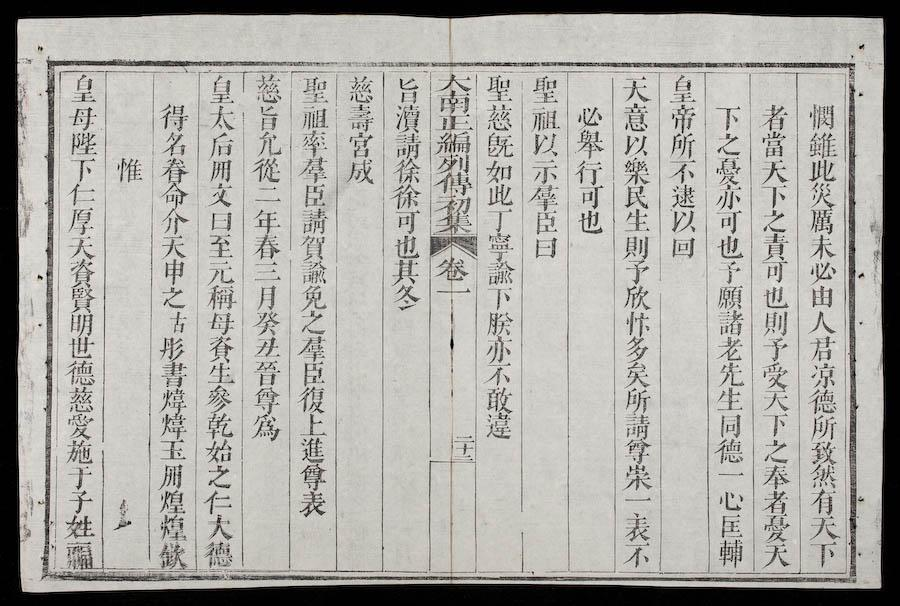c: (434, 255, 471, 283), (529, 74, 561, 106), (252, 72, 284, 104), (621, 510, 654, 541), (61, 541, 96, 570), (298, 74, 330, 105), (618, 75, 653, 103), (435, 172, 474, 197), (67, 73, 98, 104), (158, 101, 190, 131), (207, 73, 237, 105), (620, 103, 652, 133), (344, 74, 377, 103), (621, 463, 654, 492), (805, 131, 839, 159), (434, 132, 473, 156), (668, 73, 698, 104), (758, 102, 790, 131), (806, 101, 838, 130), (113, 155, 145, 184), (620, 158, 652, 187), (249, 413, 282, 441), (202, 541, 236, 568), (61, 514, 96, 540), (392, 104, 423, 133), (715, 539, 746, 568), (483, 104, 515, 132), (344, 104, 376, 132), (574, 130, 606, 158), (390, 285, 422, 313), (713, 438, 746, 465), (250, 157, 283, 184), (156, 542, 189, 569), (64, 386, 97, 413), (202, 513, 235, 540), (296, 490, 329, 517), (250, 233, 283, 260), (64, 359, 98, 385), (806, 515, 841, 540), (484, 74, 514, 103), (667, 104, 698, 132), (712, 157, 743, 185), (485, 232, 516, 260), (760, 514, 791, 542), (65, 206, 96, 234), (344, 159, 376, 186), (297, 156, 329, 183), (202, 412, 234, 439), (203, 385, 235, 412), (573, 159, 605, 186), (436, 91, 472, 115), (621, 542, 653, 569), (156, 514, 188, 541), (296, 386, 328, 413), (157, 361, 189, 388), (528, 185, 561, 211), (63, 439, 96, 465), (296, 335, 329, 361), (434, 213, 474, 234), (483, 386, 514, 413), (66, 259, 97, 286), (159, 207, 190, 234), (807, 488, 838, 515), (667, 132, 698, 159), (251, 359, 282, 386), (297, 463, 328, 490), (483, 412, 514, 439), (808, 414, 839, 441), (806, 335, 837, 362), (205, 335, 236, 362), (529, 107, 561, 133), (758, 159, 790, 185), (483, 337, 515, 363), (391, 133, 423, 159), (391, 159, 423, 185), (206, 105, 238, 131), (298, 208, 330, 234), (389, 259, 421, 285), (298, 130, 330, 156), (157, 412, 189, 438), (760, 543, 792, 569), (484, 133, 516, 159), (250, 207, 282, 233), (66, 286, 98, 312), (807, 388, 839, 414), (204, 285, 237, 310), (390, 185, 423, 210), (63, 413, 96, 438), (394, 75, 422, 104), (621, 284, 651, 311), (759, 131, 789, 158), (205, 233, 235, 260), (345, 132, 375, 159), (760, 233, 790, 260), (760, 362, 790, 389), (575, 209, 605, 236), (806, 234, 837, 260), (157, 335, 188, 361), (159, 157, 190, 183), (251, 310, 282, 336), (251, 387, 282, 413), (484, 311, 515, 337), (621, 413, 652, 439), (808, 541, 839, 567), (714, 310, 745, 336), (297, 436, 328, 462), (621, 387, 652, 413), (760, 489, 791, 515), (807, 362, 838, 388), (204, 260, 236, 285), (621, 438, 653, 463), (202, 489, 234, 514), (157, 388, 189, 413), (298, 106, 330, 131), (202, 439, 234, 464), (435, 72, 473, 93), (65, 235, 98, 259), (65, 182, 98, 206), (207, 132, 236, 159), (717, 512, 746, 539), (157, 462, 186, 489), (621, 234, 651, 260), (713, 185, 743, 211), (715, 336, 745, 362), (760, 310, 790, 336), (622, 311, 652, 337), (713, 131, 743, 157), (806, 182, 836, 208), (484, 160, 515, 185), (529, 133, 560, 158), (529, 159, 560, 184), (68, 131, 99, 156), (298, 235, 329, 260), (203, 464, 234, 489), (297, 310, 328, 335), (67, 105, 98, 130), (485, 261, 516, 286), (808, 440, 839, 465), (806, 310, 837, 335), (156, 490, 188, 514), (157, 438, 189, 462), (253, 284, 281, 311), (807, 208, 836, 234), (713, 104, 742, 130), (160, 131, 189, 157), (715, 362, 745, 387), (253, 132, 283, 157), (622, 362, 652, 387), (159, 234, 189, 259), (760, 337, 790, 362), (159, 183, 189, 208), (298, 361, 328, 386), (668, 184, 698, 209), (759, 208, 789, 233), (298, 285, 328, 310), (715, 387, 745, 412), (761, 438, 791, 463), (806, 159, 837, 183), (667, 160, 698, 184), (297, 413, 328, 437), (808, 464, 839, 488), (64, 489, 95, 513), (64, 464, 95, 488), (298, 260, 329, 284), (67, 157, 98, 181), (760, 464, 791, 488), (205, 311, 236, 335), (434, 155, 473, 174), (760, 389, 792, 412), (204, 362, 236, 385), (254, 105, 282, 131), (716, 412, 744, 438), (715, 285, 744, 310), (715, 235, 744, 260), (622, 209, 651, 234), (621, 133, 650, 158), (159, 259, 188, 284), (761, 412, 790, 437), (300, 183, 329, 208), (531, 211, 560, 236), (392, 234, 421, 259), (669, 209, 698, 234), (621, 185, 651, 209), (485, 184, 515, 208), (575, 105, 605, 129), (807, 260, 837, 284), (716, 488, 746, 512), (434, 114, 474, 132), (251, 336, 282, 359), (483, 363, 514, 386), (65, 336, 96, 359), (251, 260, 282, 283), (206, 183, 234, 208), (532, 236, 560, 261), (622, 337, 650, 362), (66, 312, 95, 336), (392, 210, 421, 234), (485, 208, 514, 232), (760, 184, 789, 208), (485, 287, 515, 310), (434, 284, 472, 302), (761, 285, 789, 309), (159, 285, 187, 309), (669, 236, 697, 260), (716, 260, 744, 284), (807, 285, 835, 309), (714, 210, 743, 233), (760, 260, 789, 283), (622, 260, 651, 283), (575, 186, 604, 209), (206, 209, 234, 232), (434, 197, 474, 213), (251, 185, 283, 205), (207, 159, 234, 182), (164, 310, 189, 334), (715, 468, 746, 483), (621, 494, 654, 507), (453, 441, 474, 458), (453, 432, 473, 443)
